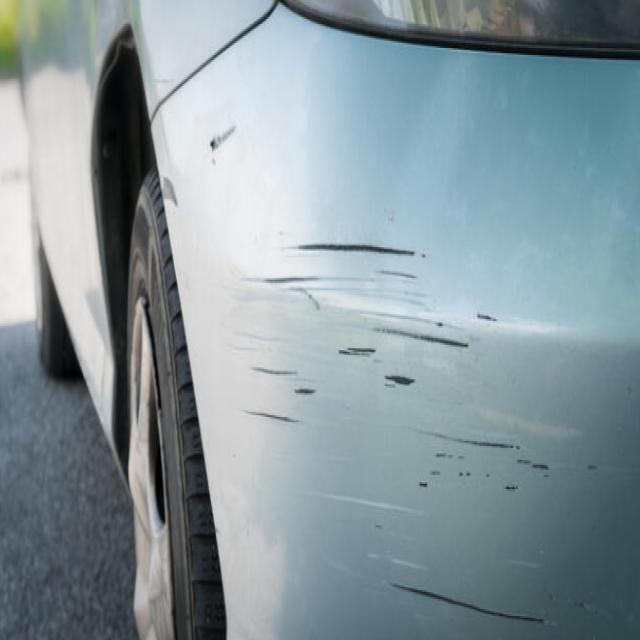scratch: (209, 356, 570, 484), (206, 229, 567, 356), (307, 487, 601, 640), (186, 115, 245, 166)
